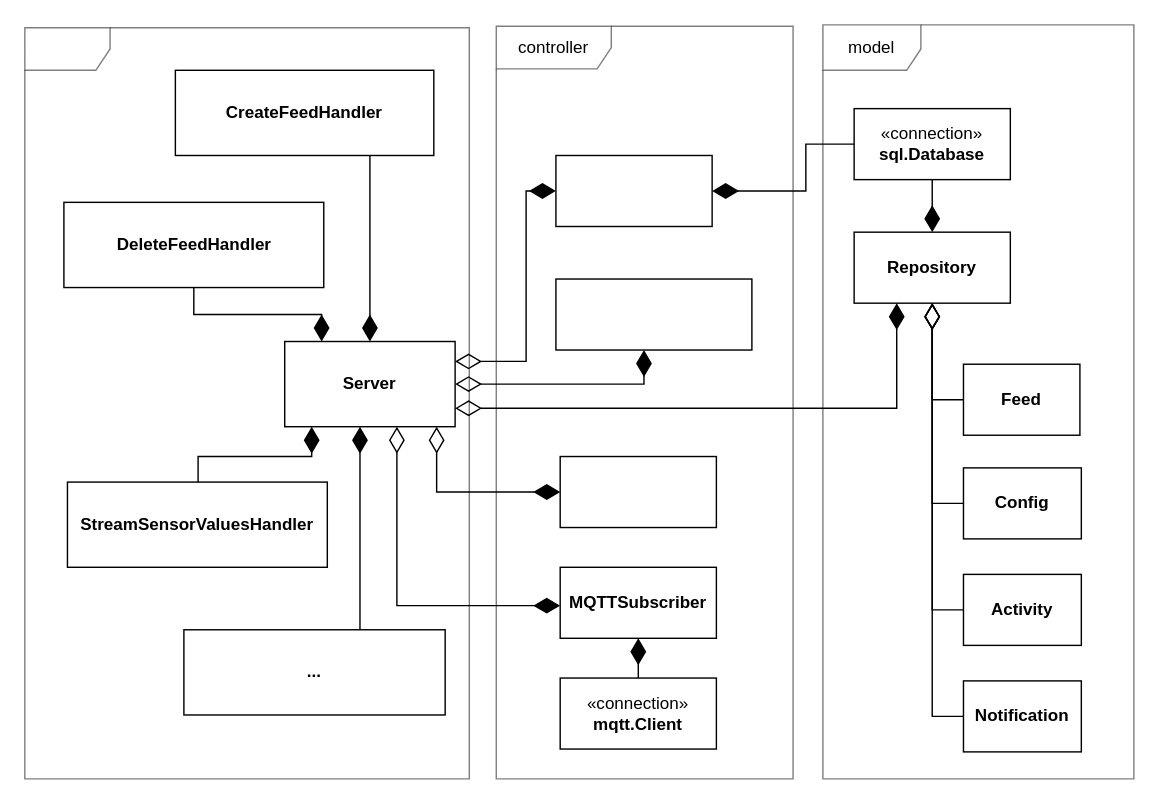
The diagram is 1159 pixels wide and 804 high, and some of its shapes have lost their labels. The centre of each missing label's shape, as x and y in pixels:
AutomaticScheduler: pixel 653 314
DatabaseHooker: pixel 633 190
FeedValueLogger: pixel 637 491
view: pixel 246 402
